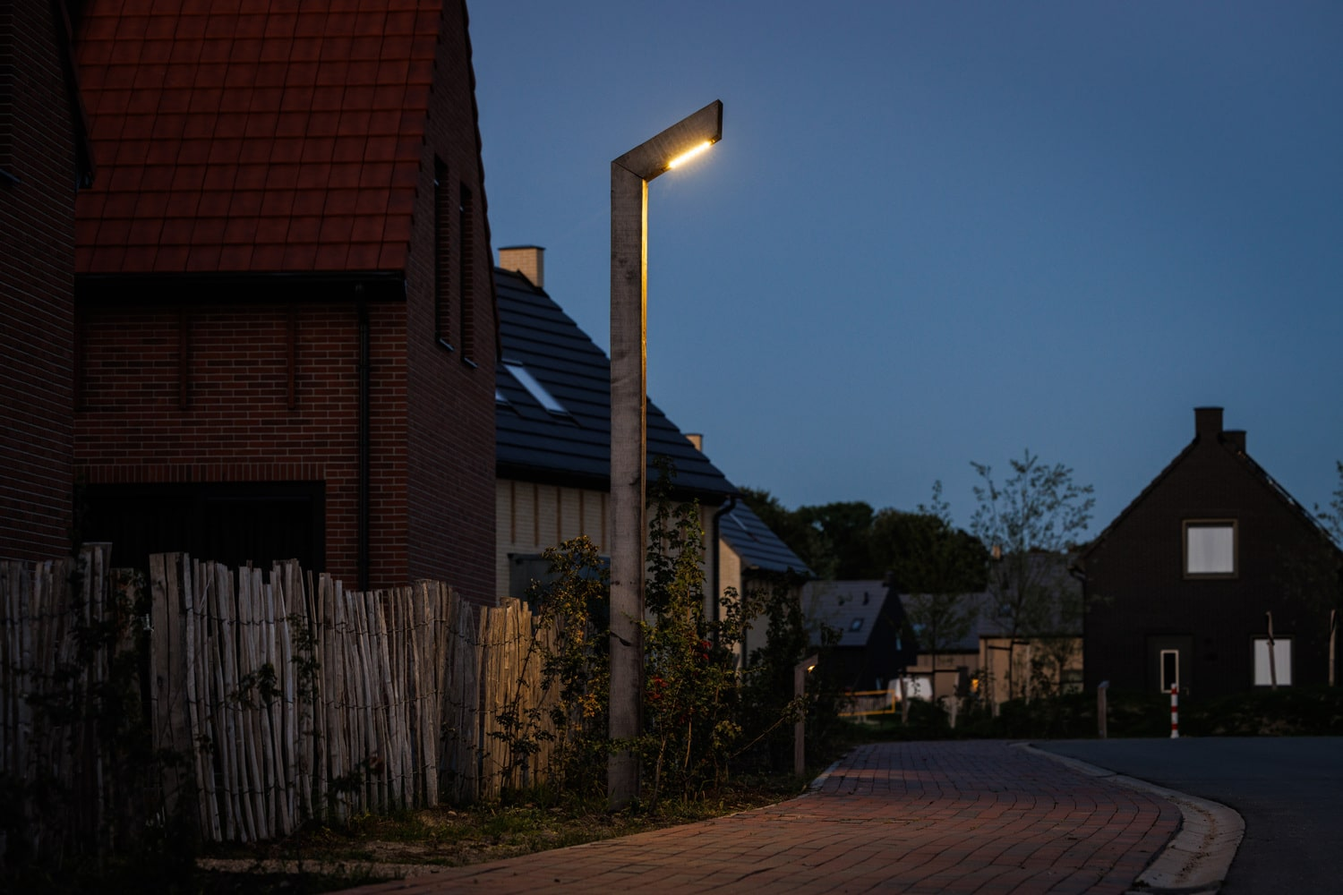light_pole: (589, 138, 667, 819)
